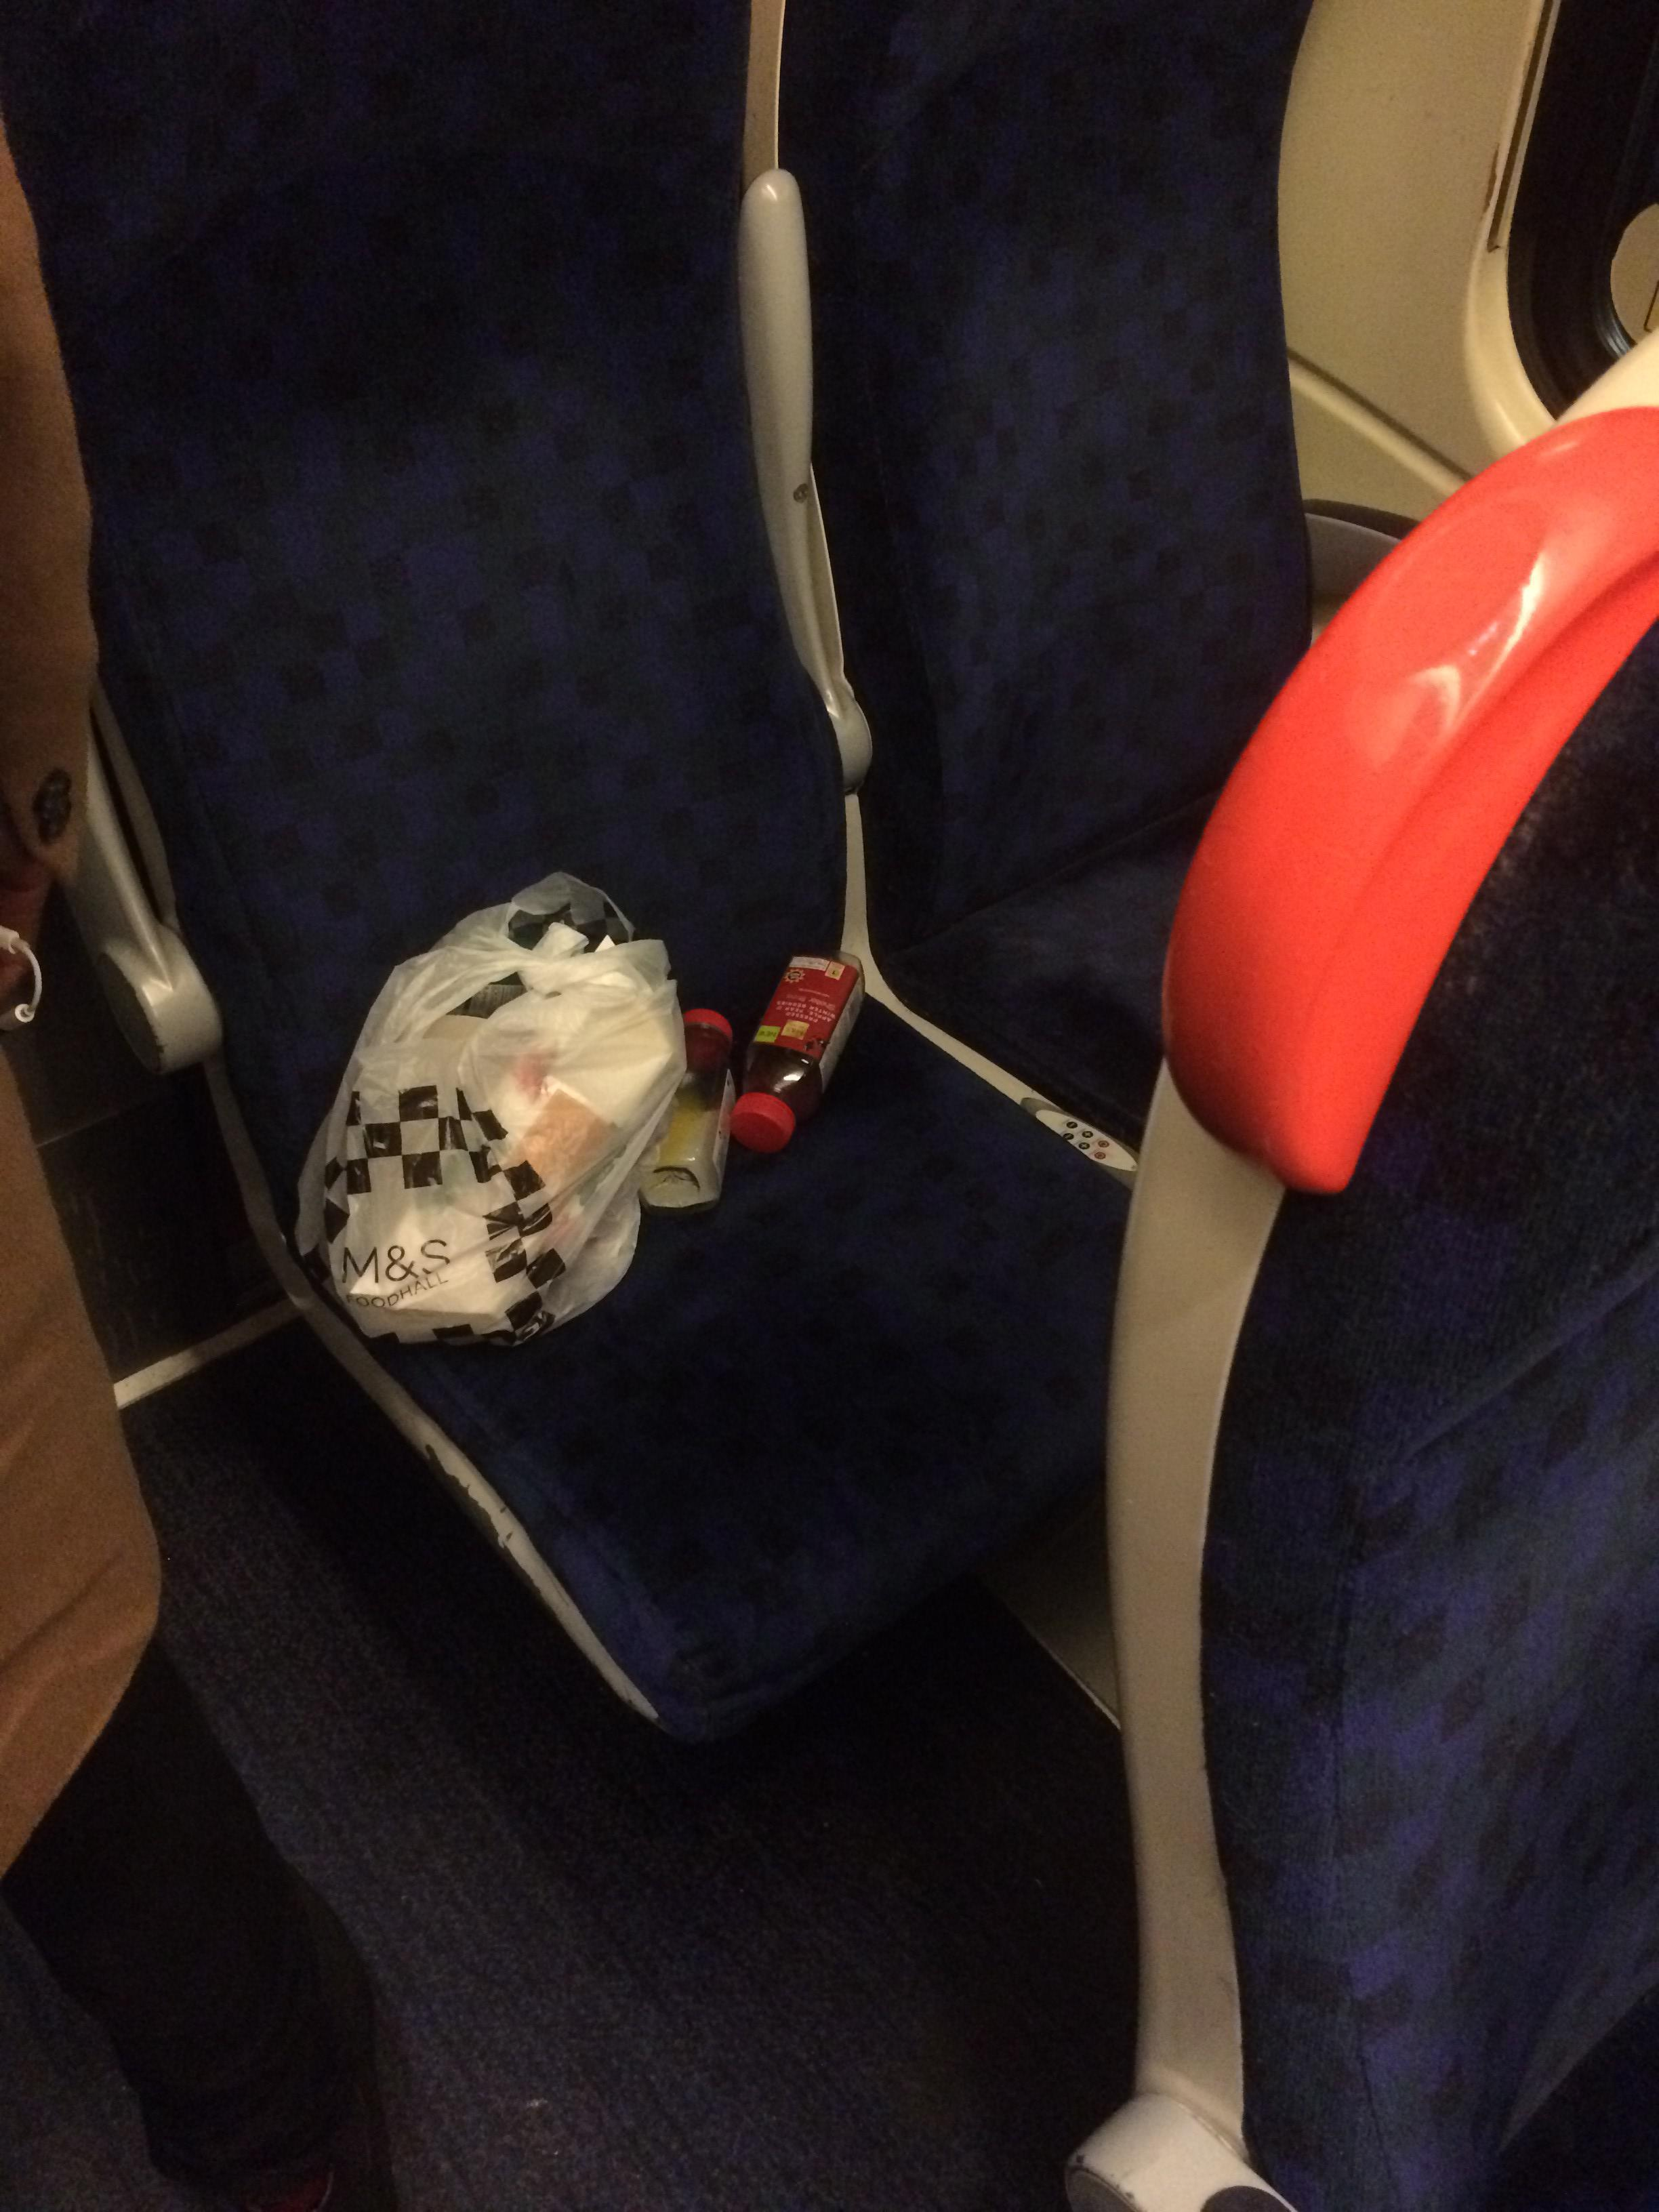Trash: (304, 869, 673, 1350), (725, 937, 865, 1173), (645, 998, 721, 1206)
